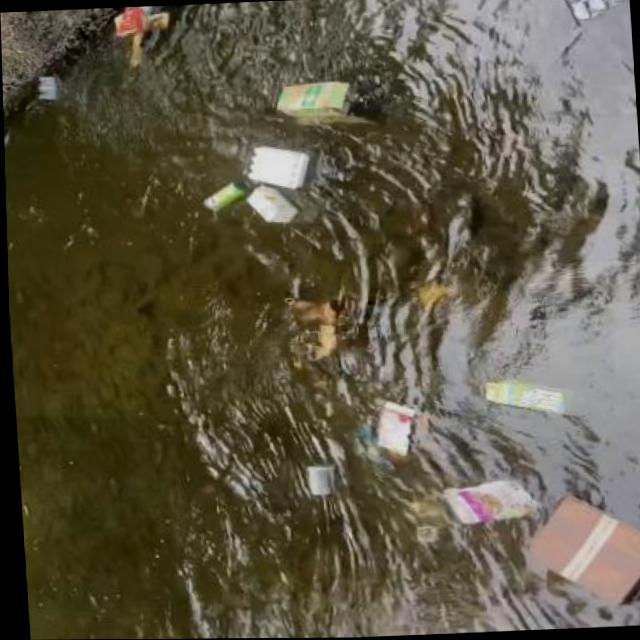Can-Metal: (192, 174, 255, 210)
Cardboard: (515, 487, 640, 612), (266, 72, 383, 135), (98, 4, 185, 73), (434, 476, 544, 529), (475, 370, 582, 422), (365, 398, 423, 460), (240, 175, 305, 228)
Paper: (278, 293, 347, 361)
Plastic: (236, 141, 323, 194), (548, 0, 631, 33), (26, 67, 71, 105), (297, 460, 335, 499)
